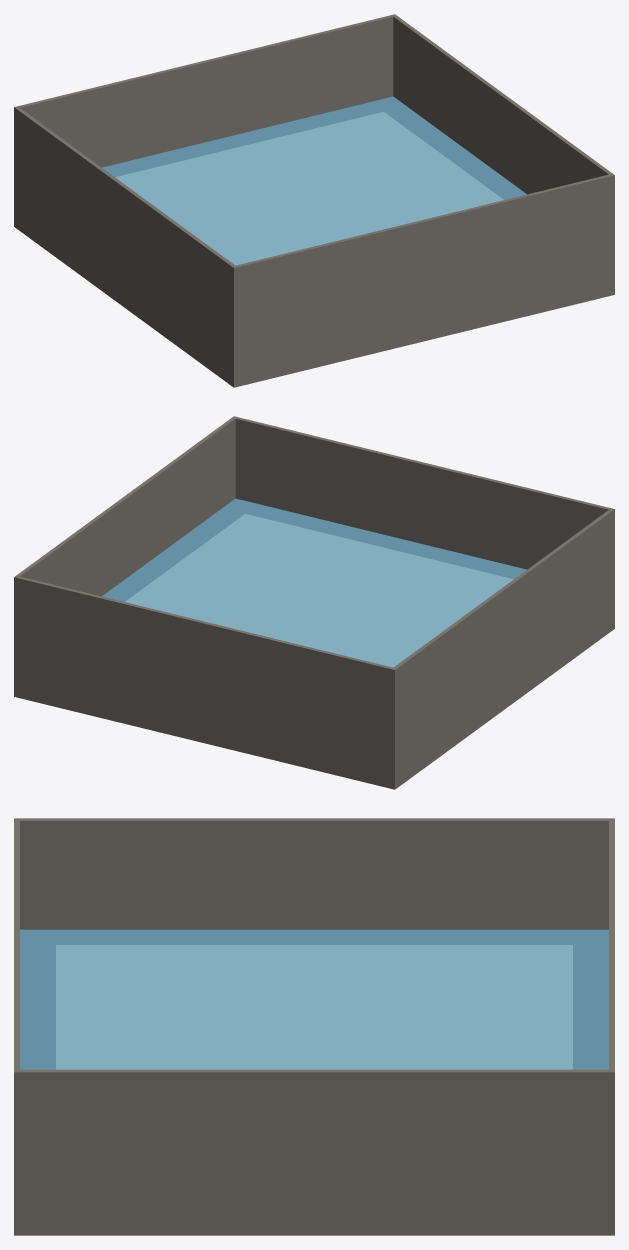
The model's file is sakura_floor_water.glb.
3 renders of one model, top to bottom at view 1: azimuth 30°, elevation 25°; view 2: azimuth 150°, elevation 25°; view 3: azimuth 270°, elevation 25°, orthographic. The views are drawn at different scales.
Visible parts, largest first — view 1: sakura_floor_water; view 2: sakura_floor_water; view 3: sakura_floor_water.
Part boxes in pixels (x1,y1,x2,y2): sakura_floor_water: (14, 14, 614, 387); sakura_floor_water: (14, 416, 614, 789); sakura_floor_water: (14, 818, 614, 1235).
Bounding box in the file's own units: 1 × 0.3 × 1.
1 material, 1 textured.
